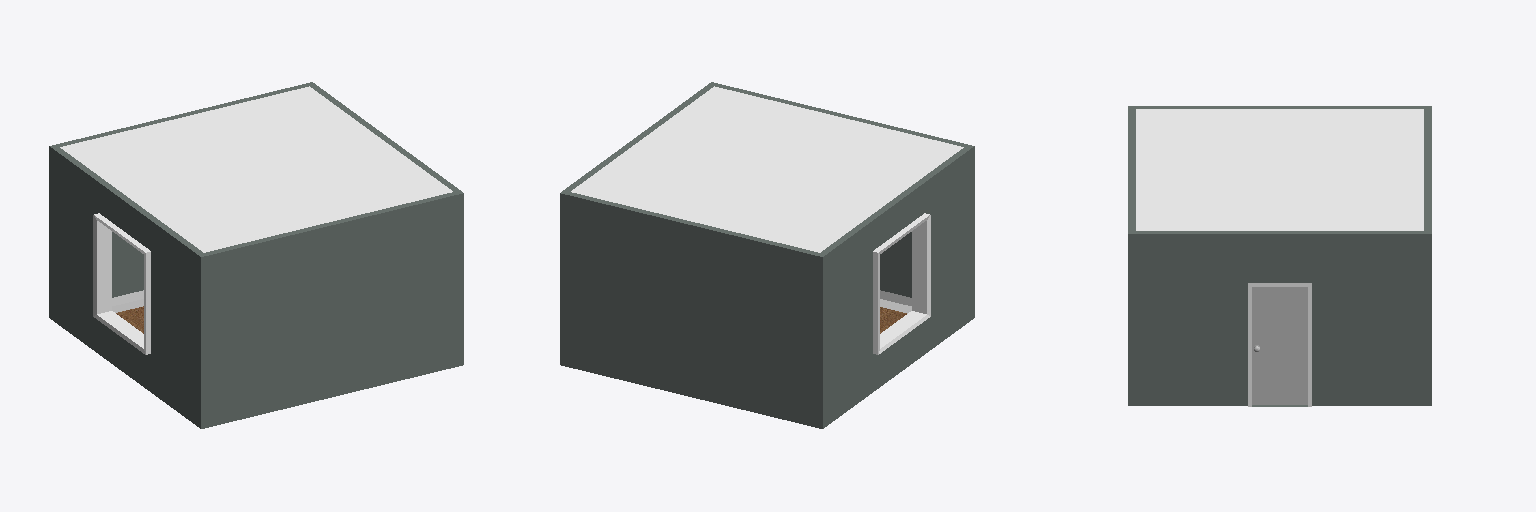
The picture shows the model from 3 angles: view 1: azimuth 30°, elevation 25°; view 2: azimuth 150°, elevation 25°; view 3: azimuth 270°, elevation 25°; orthographic projection.
Visible parts, largest first — view 1: Vert; view 2: Vert; view 3: Vert, Cube.001.
Boxes of the visible parts, <box> form: Vert: <box>49,82,463,428</box>; Vert: <box>560,82,974,428</box>; Vert: <box>1128,106,1431,406</box>; Cube.001: <box>1252,287,1307,404</box>.
Bounding box in the file's own units: 28.33 × 17.1 × 27.3.
25 materials, 1 textured.